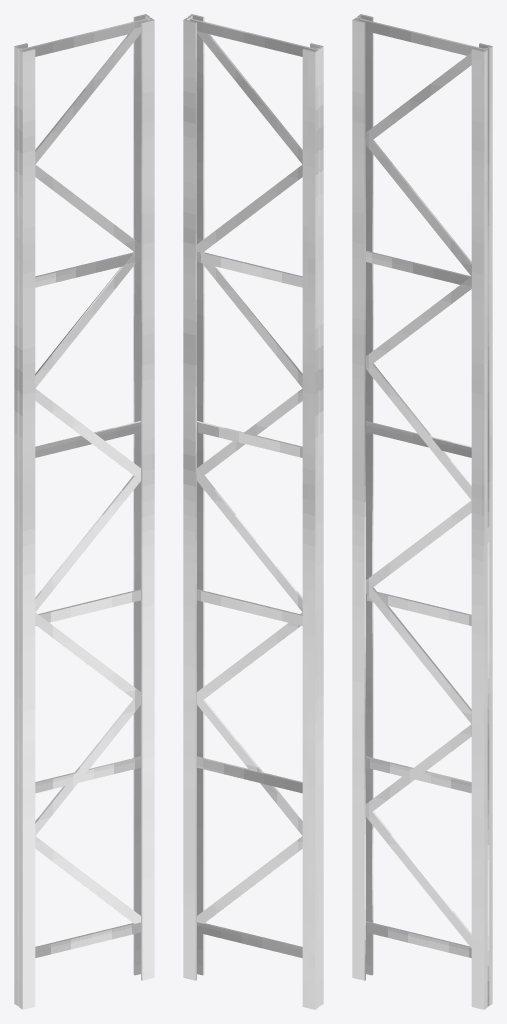
Rendered from StorageRackNarrowShortBeams.glb.
3 views of the same model, side by side, from view 1: azimuth 30°, elevation 25°; view 2: azimuth 150°, elevation 25°; view 3: azimuth 330°, elevation 25° (orthographic).
Parts seen in each view (by area): view 1: StorageRackNarrowShortBeams; view 2: StorageRackNarrowShortBeams; view 3: StorageRackNarrowShortBeams.
Part boxes in pixels (x1,y1,x2,y2): StorageRackNarrowShortBeams: [14, 14, 154, 1009]; StorageRackNarrowShortBeams: [183, 14, 323, 1009]; StorageRackNarrowShortBeams: [352, 14, 492, 1009].
Bounding box in the file's own units: 0.612 × 4.24 × 0.0683.
Materials: 1 (1 with a texture image).
